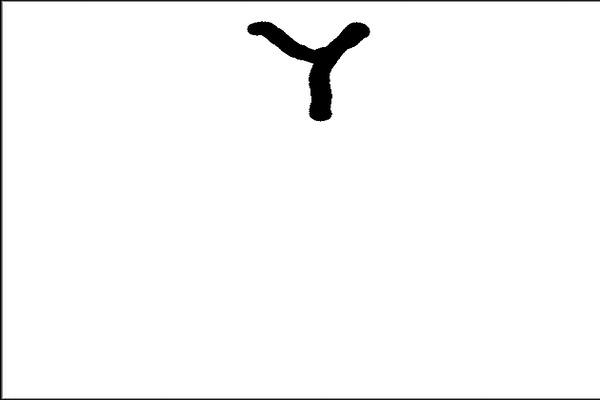Y: (239, 10, 405, 136)
